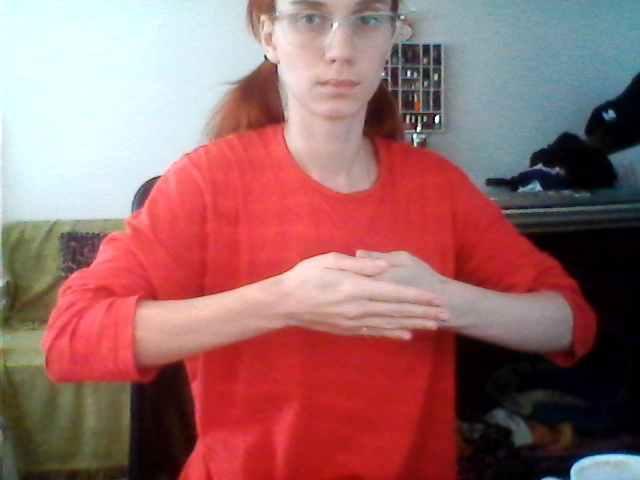dvere: (289, 245, 457, 350)
